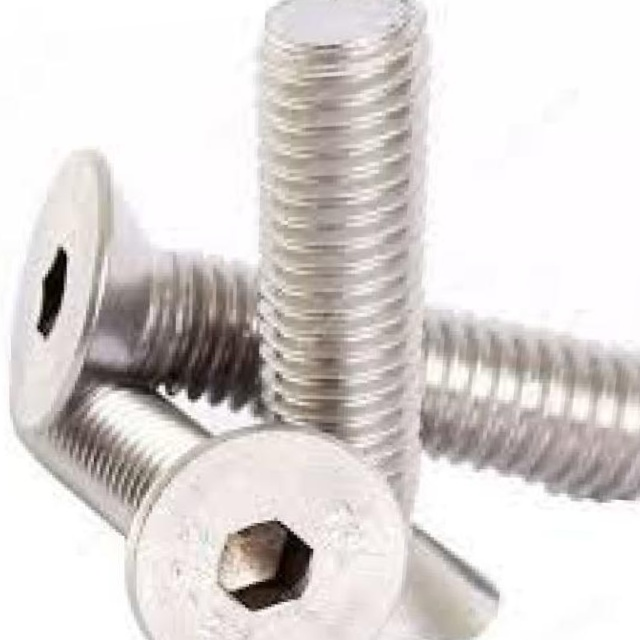allen: (127, 418, 421, 640), (0, 143, 115, 439)
